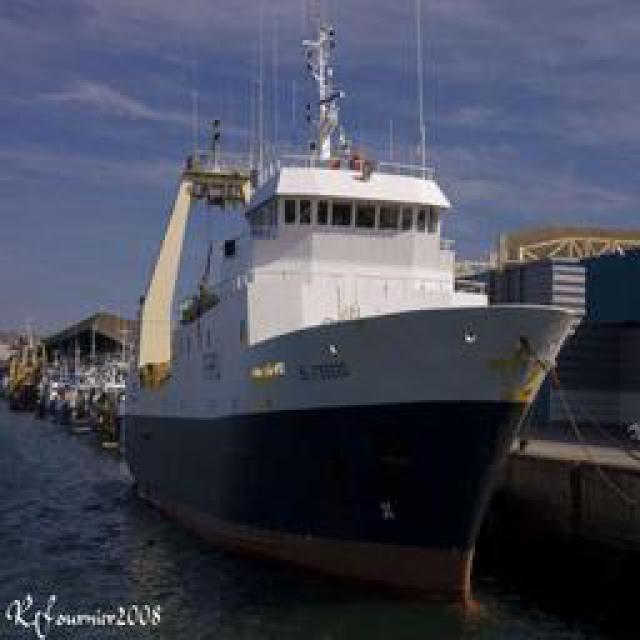Ship: (122, 1, 575, 609)
